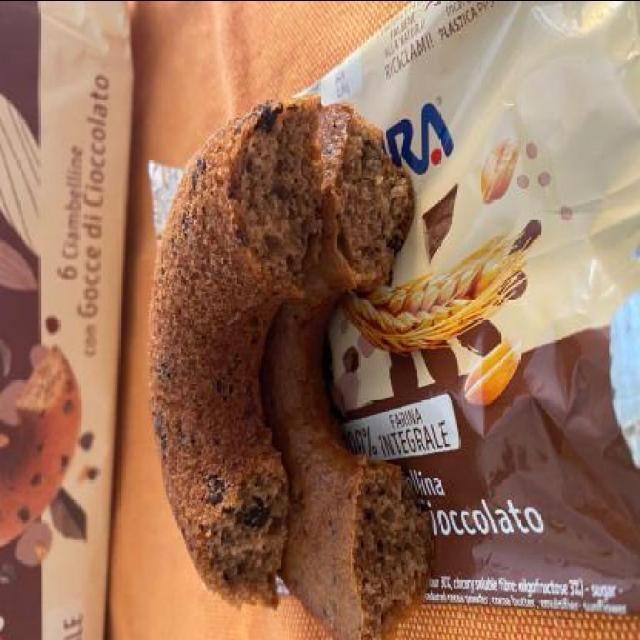Merendine packaged: (157, 94, 426, 640)
